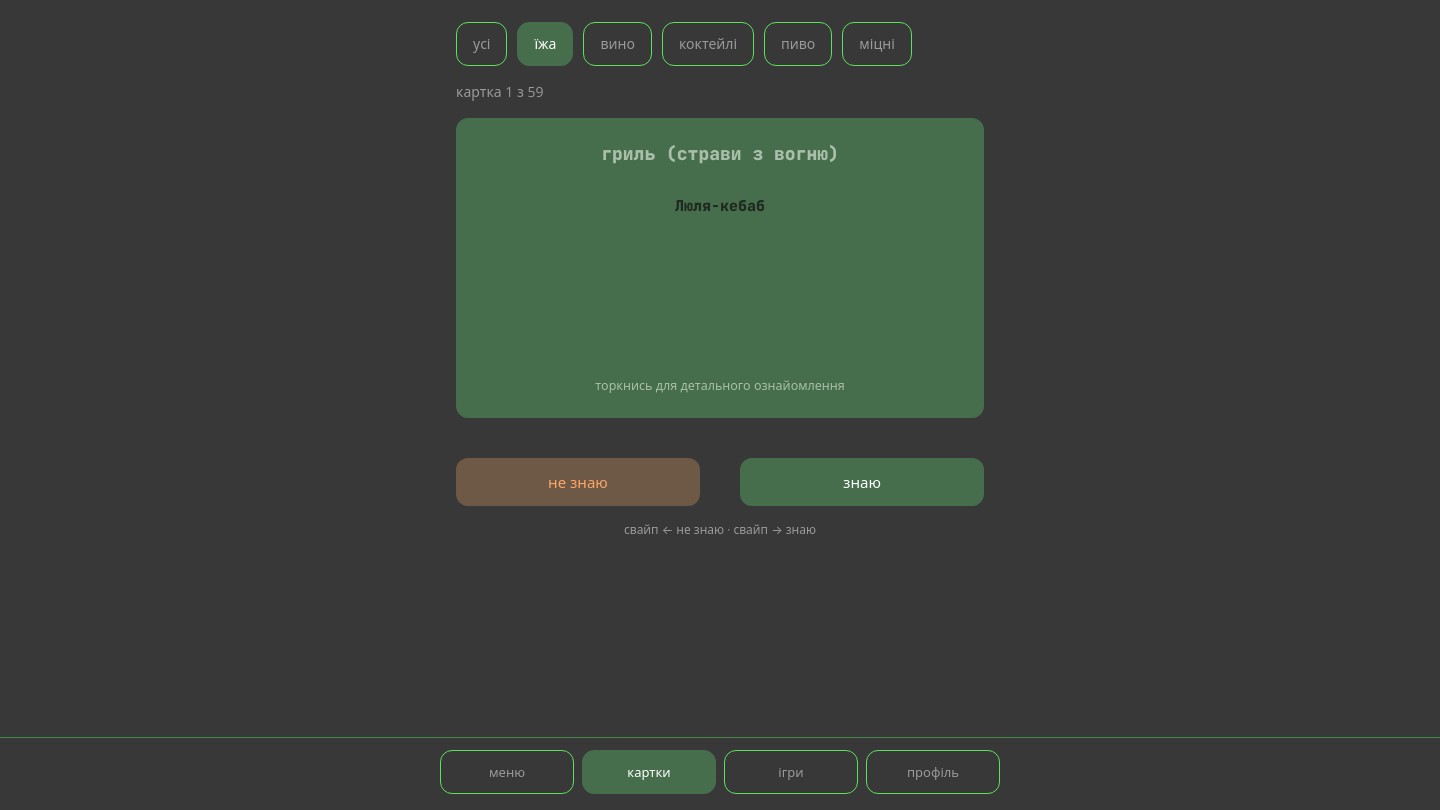
Test: CardsView (mobile) › starts a new deck when the category changes
What coordinates should you click on to do the following:
click the tab "вино"
I would click on:
 (618, 44)
Its box is [584,22,652,66].
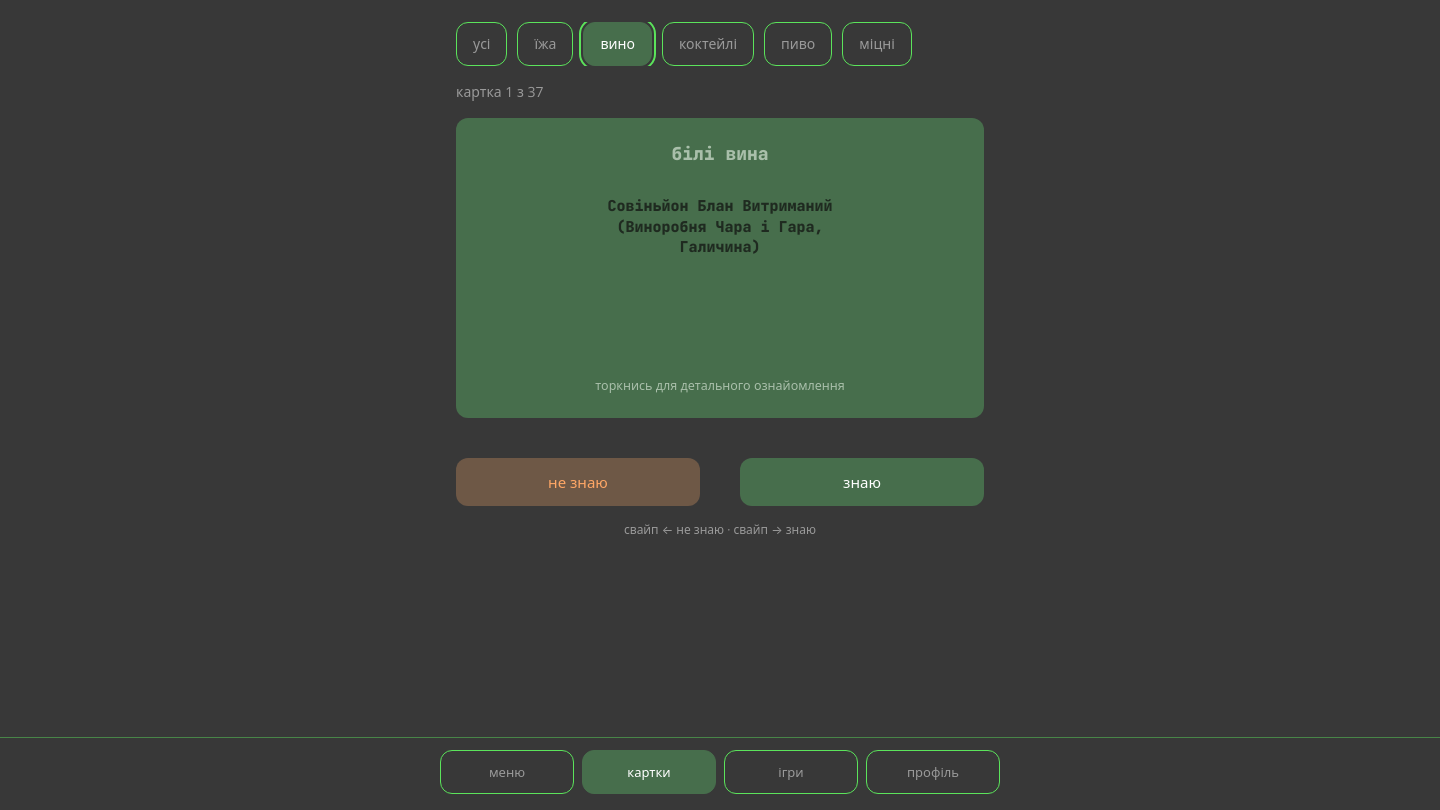
Expected: the text "картка 1 з 37" is shown, [456,82,544,101]
What coordinates should you click on to do the following:
click the tab "усі"
I would click on:
 (482, 44)
Its box is [456,22,508,66].
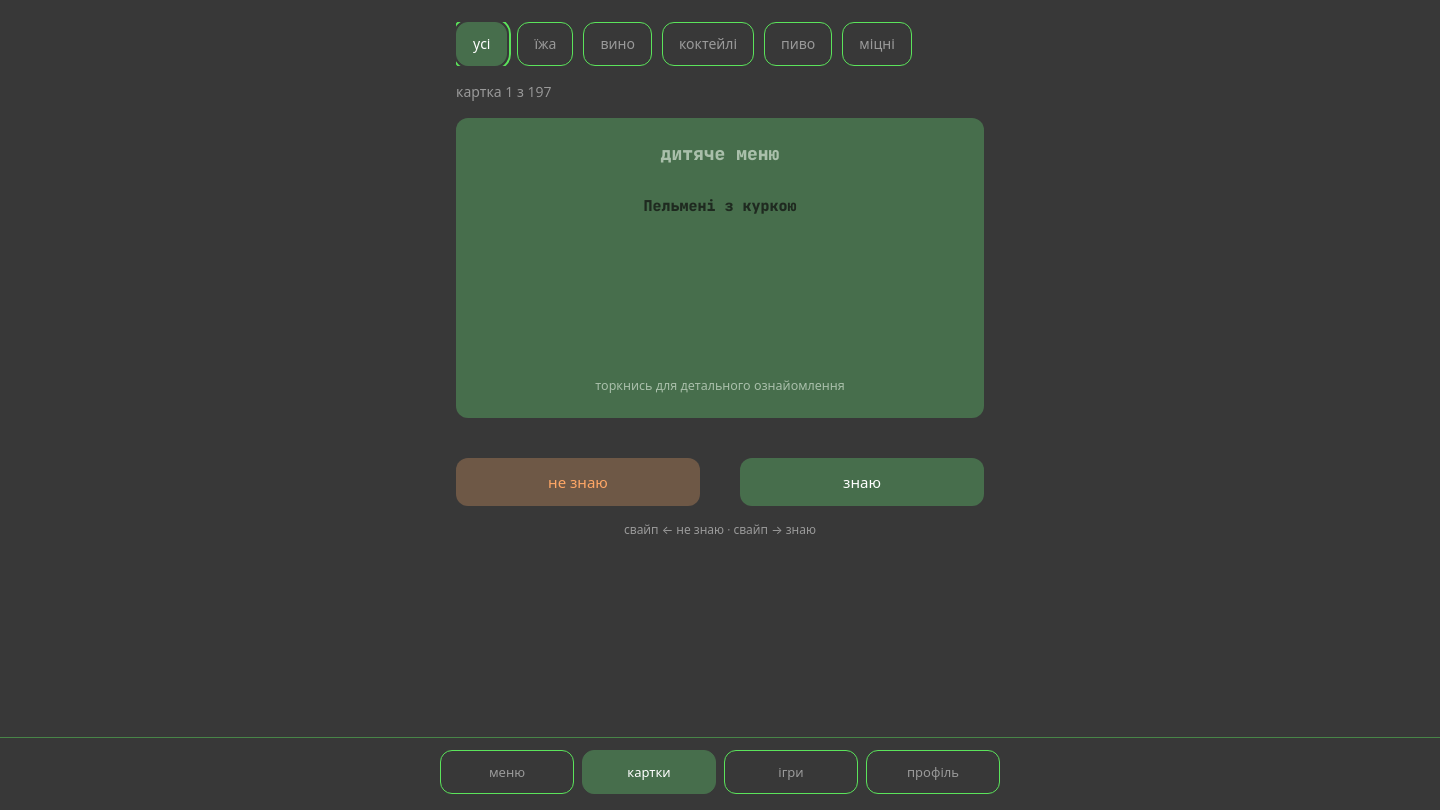
Expected: the text "картка 1 з 197" is shown, [456,82,552,101]
